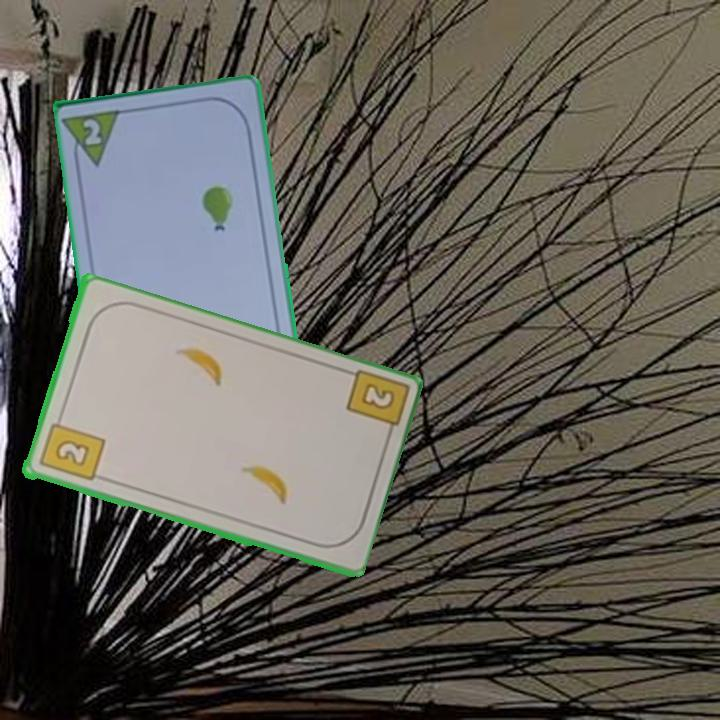2b: (35, 411, 107, 485), (341, 366, 408, 443)
2p: (79, 115, 105, 149)
